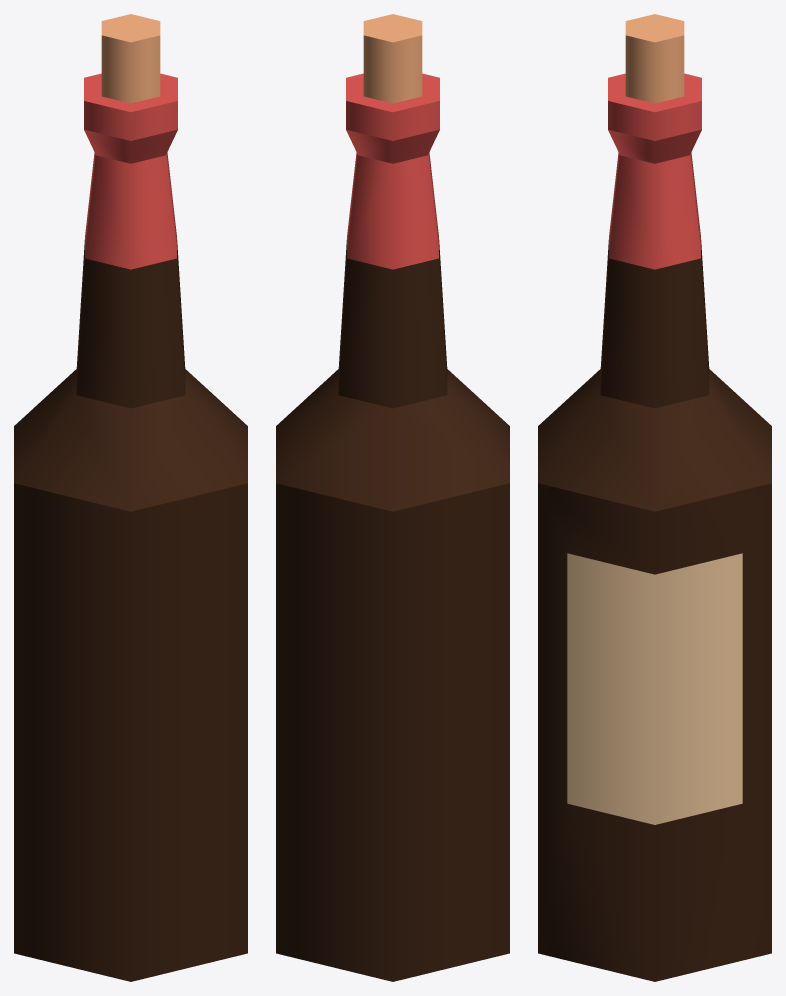
The model's file is Wine Red.glb.
3 renders of one model, left to right at view 1: azimuth 30°, elevation 25°; view 2: azimuth 150°, elevation 25°; view 3: azimuth 270°, elevation 25°, orthographic.
Parts seen in each view (by area): view 1: Wine Red; view 2: Wine Red; view 3: Wine Red.
Boxes of the visible parts, x1,y1,x2,y2 form: Wine Red: (14, 14, 247, 981); Wine Red: (276, 14, 509, 981); Wine Red: (538, 14, 771, 981).
Bounding box in the file's own units: 0.0848 × 0.3106 × 0.0734.
